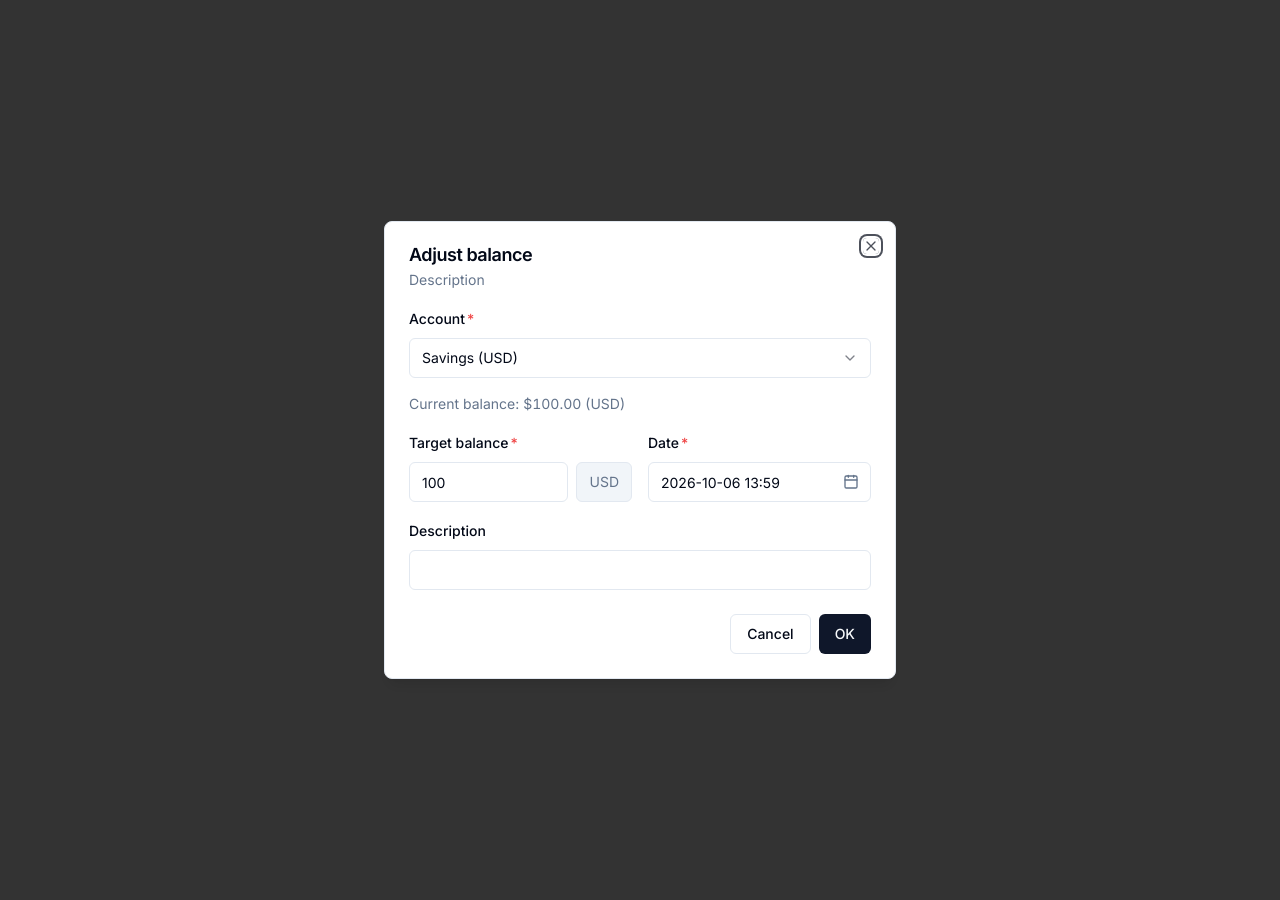
AdjustBalanceDialog › uses the shared date picker: the calendar button opens a calendar
This screenshot has width=1280, height=900.
Check: the field labelled "Date*" is shown, box top-left (648, 462), bottom-right (871, 502)
Click the button named "open calendar" at (851, 482), box top-left (831, 462), bottom-right (871, 502)
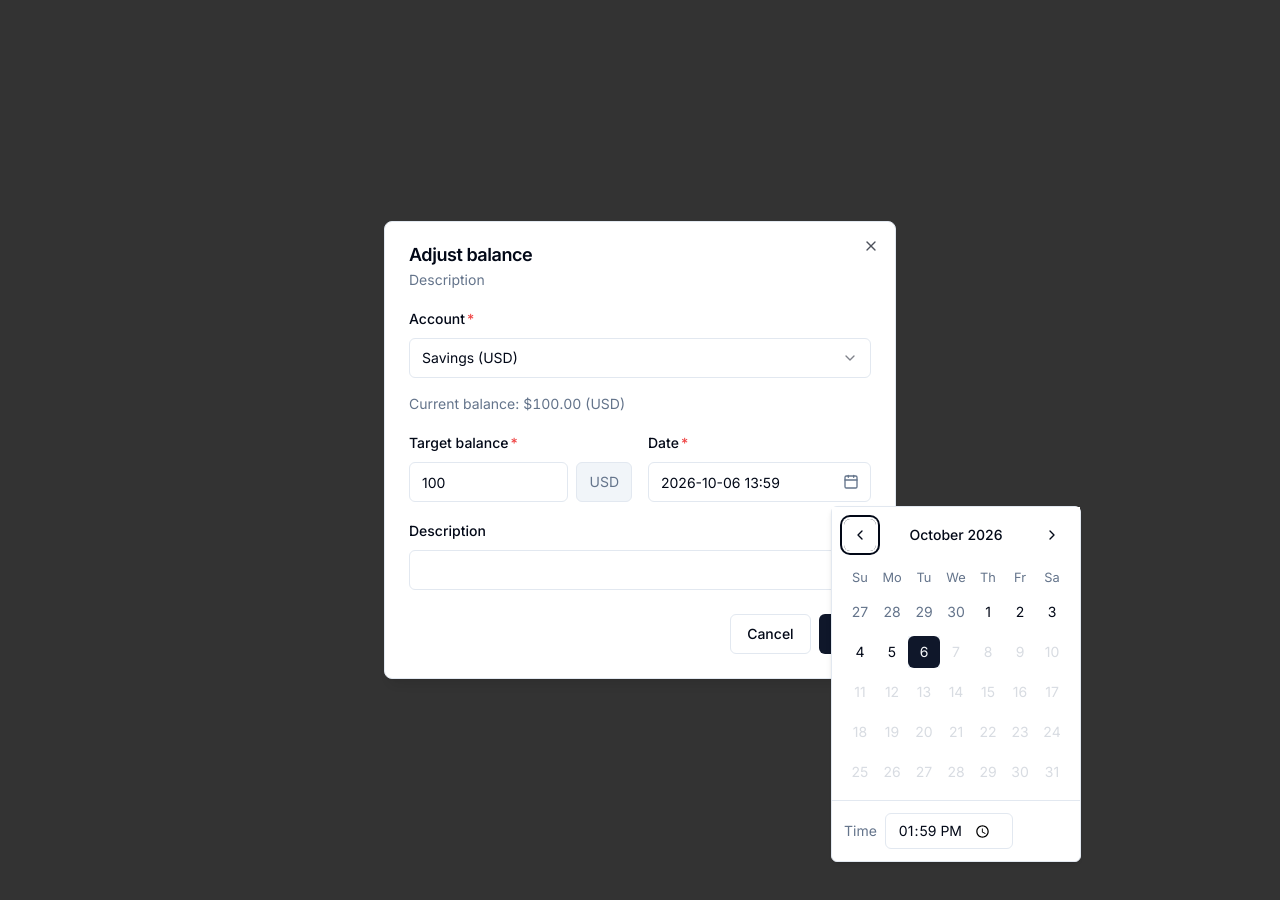
Check: the table is shown, box top-left (844, 567), bottom-right (1068, 788)
